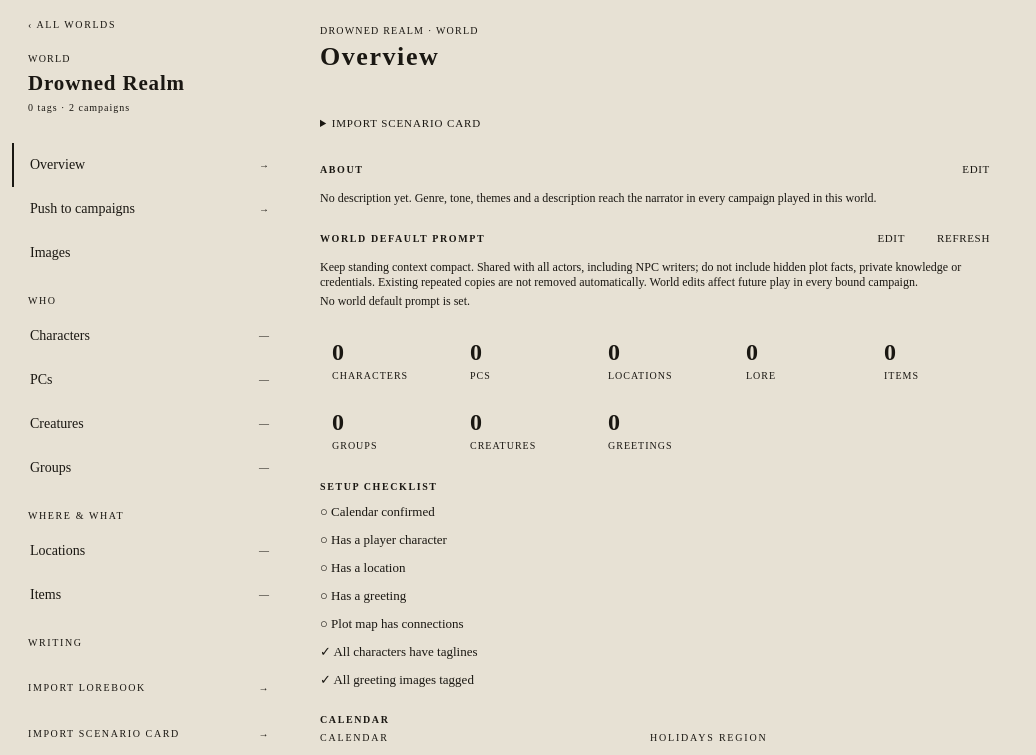
picking Characters renders the character editor
This screenshot has width=1036, height=755.
Expected: the heading "Drowned Realm" is shown, top-left (28, 70), bottom-right (185, 94)
Step 1. Click the link "Characters —" → (60, 335), box top-left (30, 328), bottom-right (270, 343)
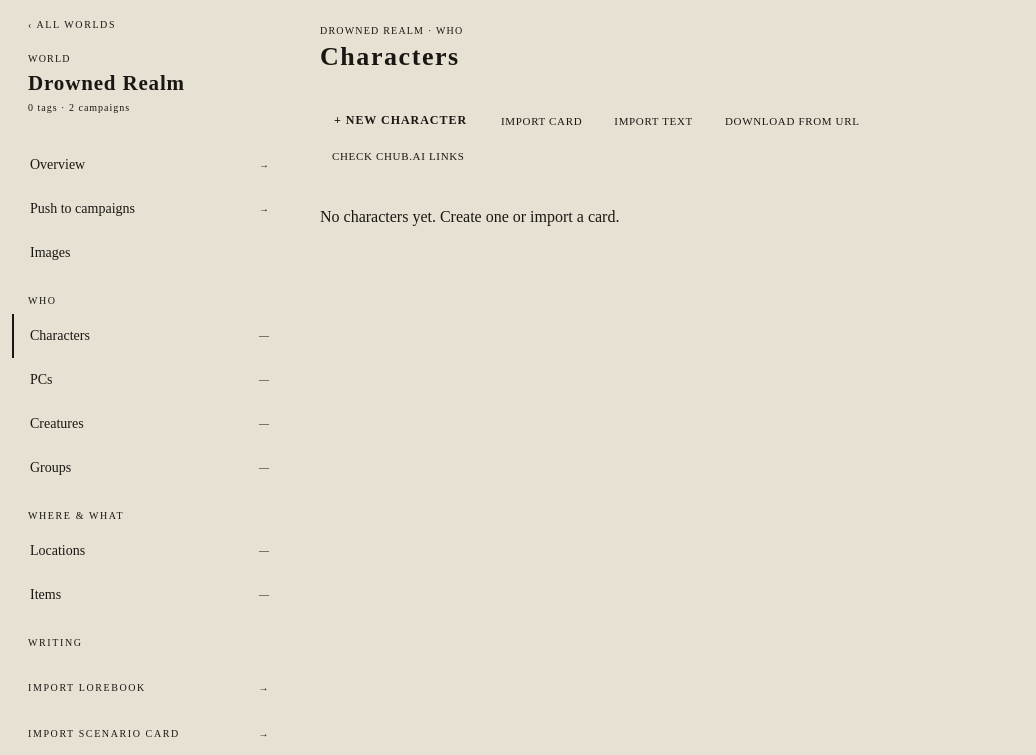
Expected: the link "+ New character" is shown, top-left (334, 113), bottom-right (467, 127)
